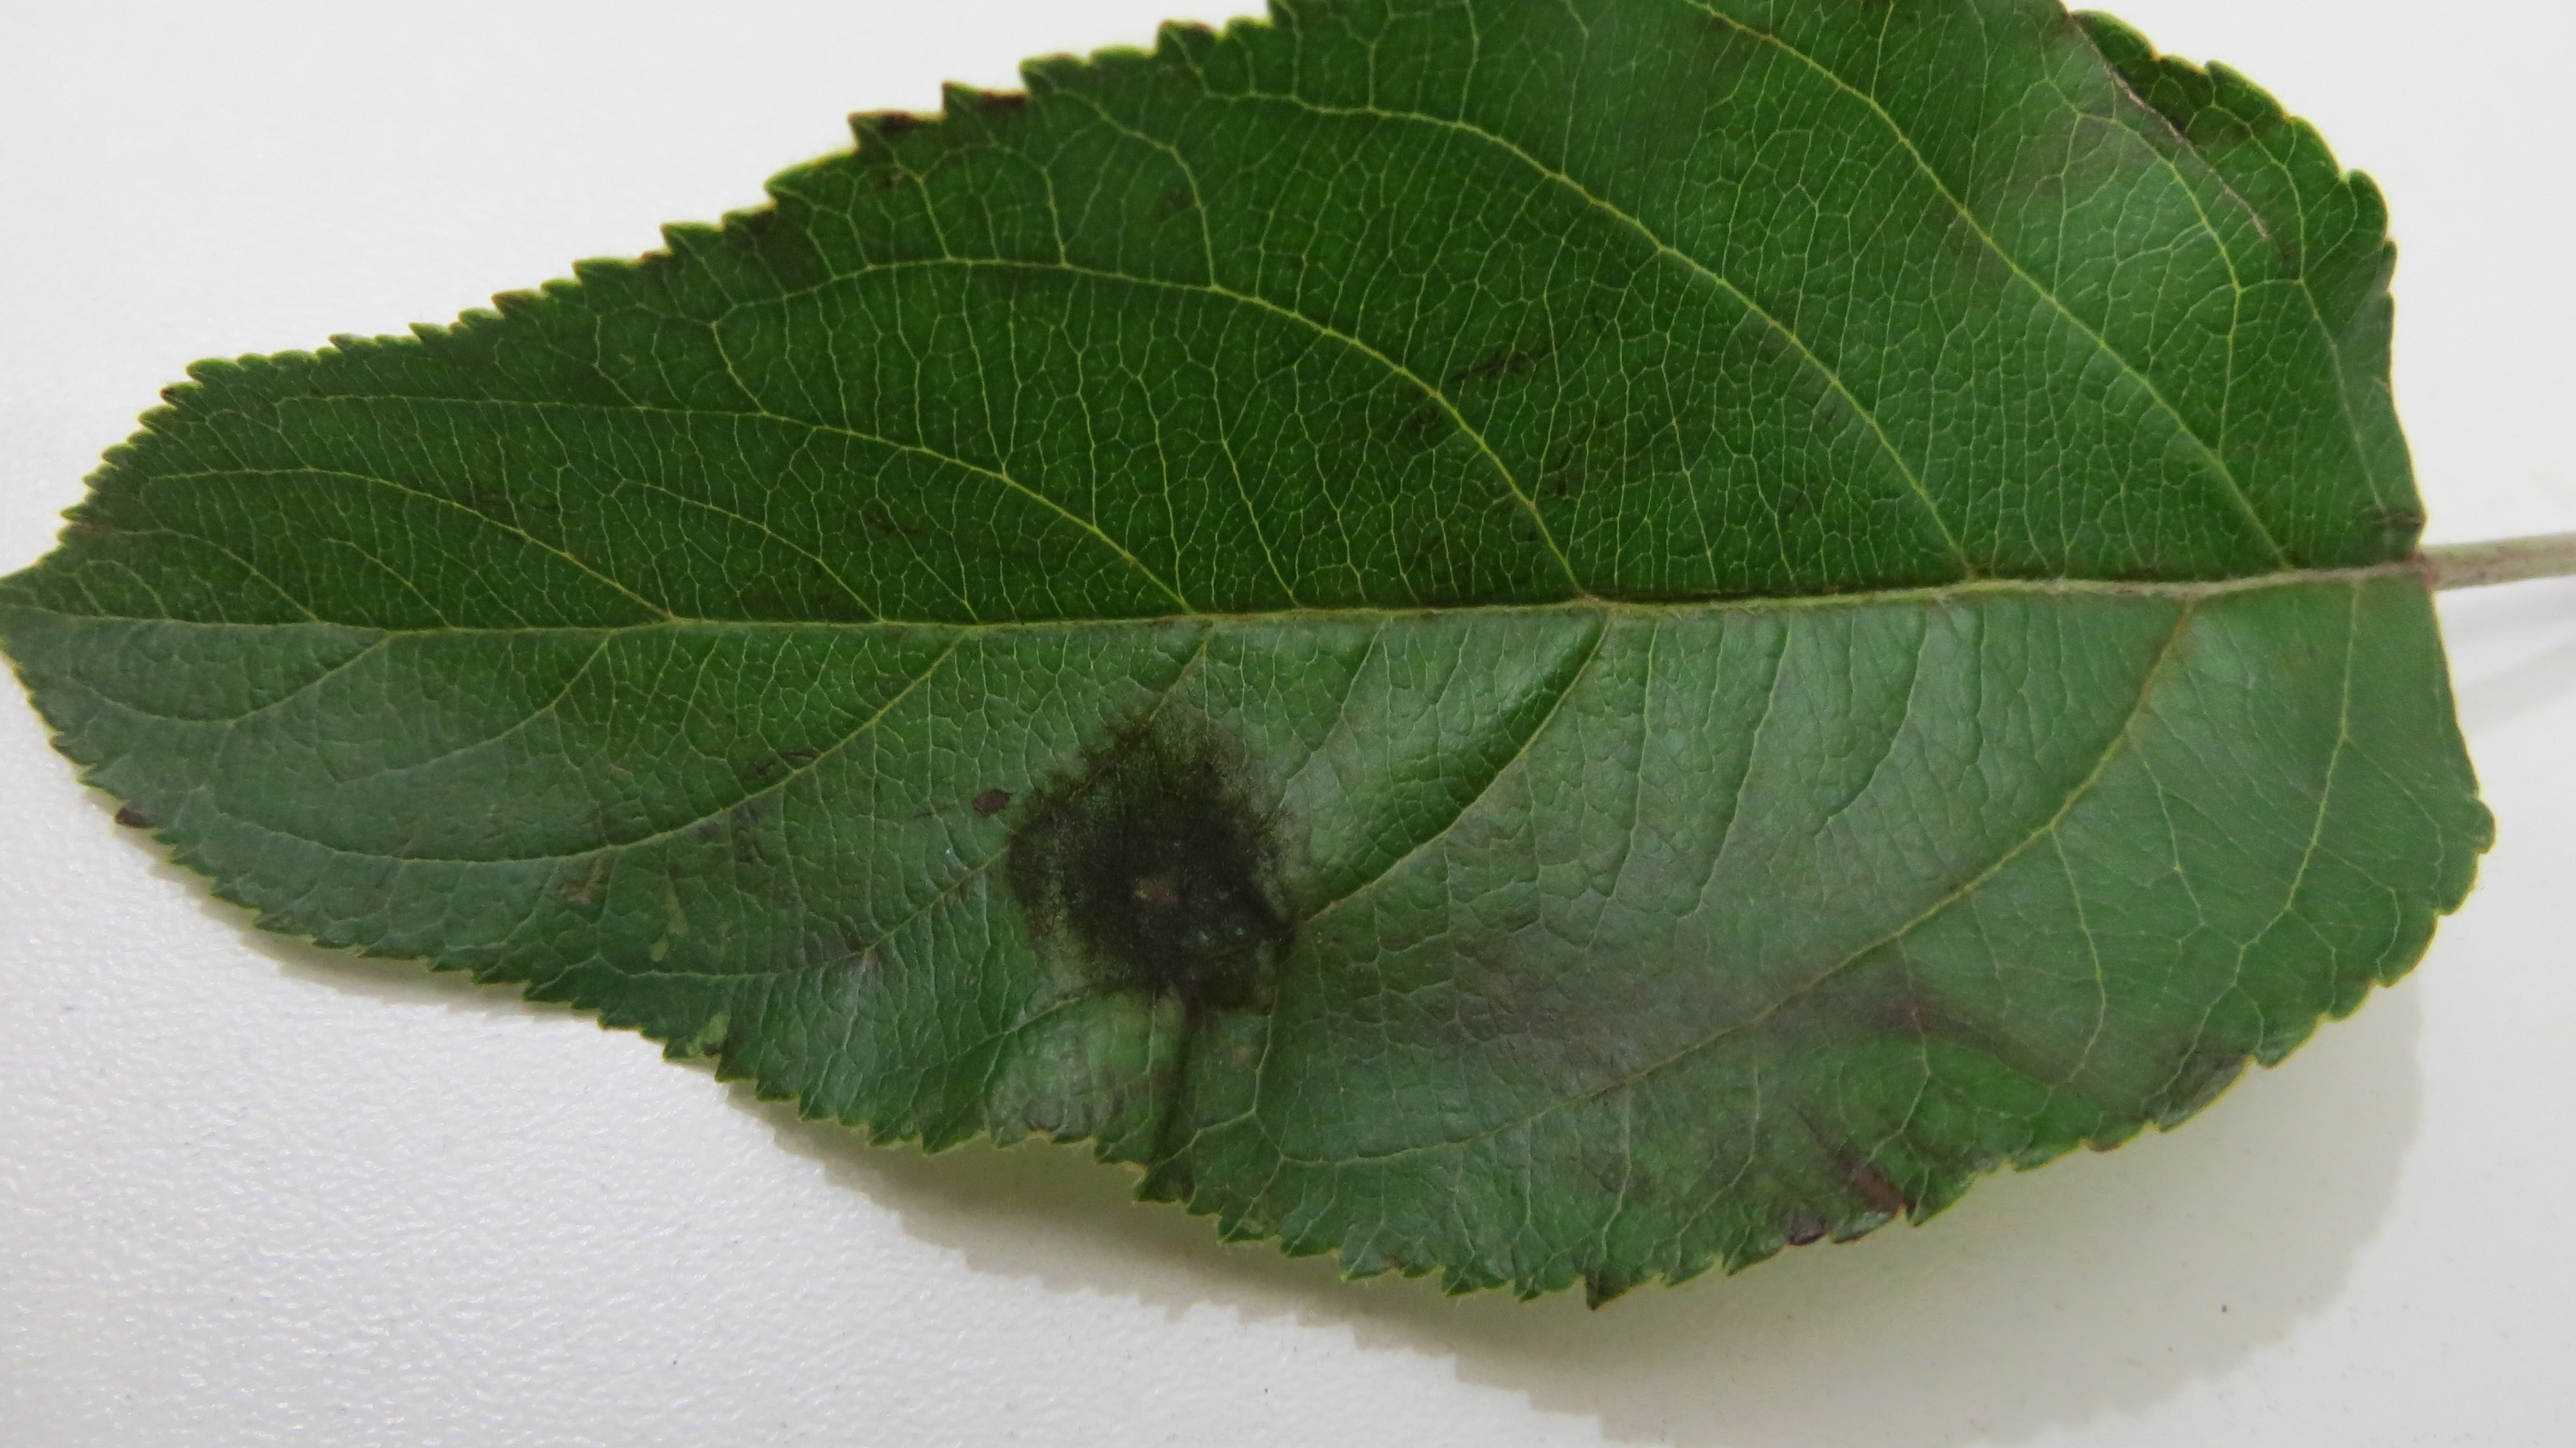sarna: (1005, 696, 1322, 1028), (1412, 897, 1755, 1112), (1805, 928, 2082, 1089), (1769, 1108, 1916, 1246), (2135, 988, 2245, 1089)
